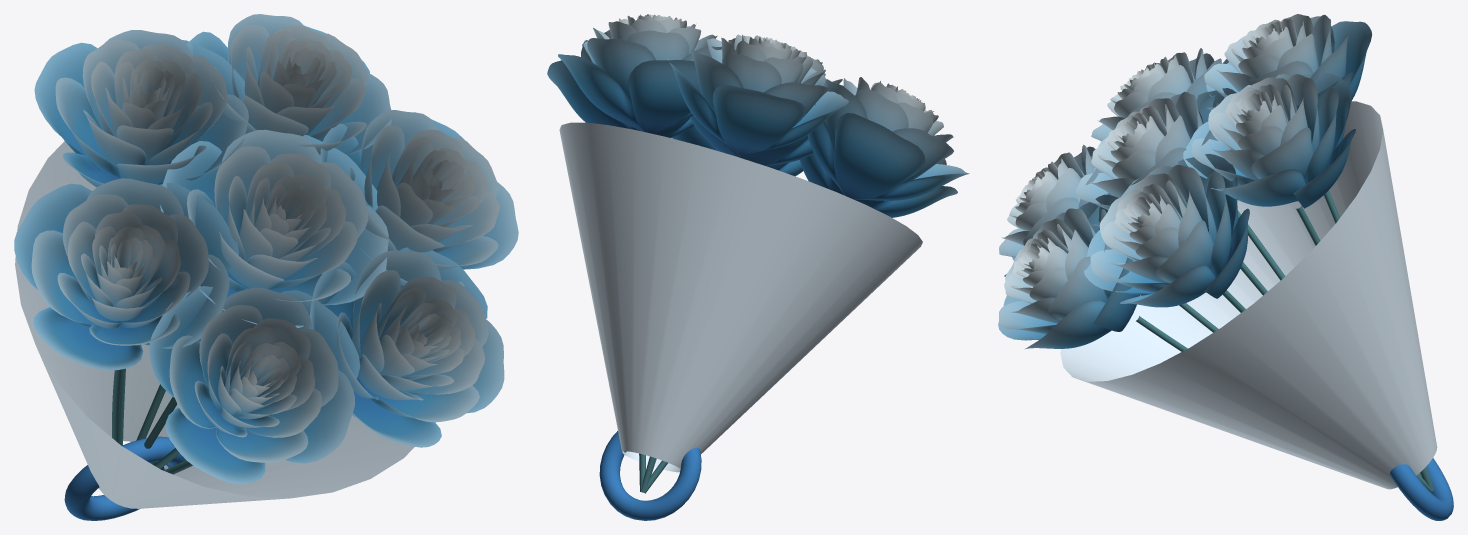
The model's file is fuongthenn-blue-bouquet.glb.
3 renders of one model, left to right at view 1: azimuth 30°, elevation 25°; view 2: azimuth 150°, elevation 25°; view 3: azimuth 270°, elevation 25°, orthographic. The views are drawn at different scales.
Visible parts, largest first — view 1: Sona bouquet · seven blue roses for FuongThenn; view 2: Sona bouquet · seven blue roses for FuongThenn; view 3: Sona bouquet · seven blue roses for FuongThenn.
Part boxes in pixels (x1,y1,x2,y2): Sona bouquet · seven blue roses for FuongThenn: [14, 14, 518, 520]; Sona bouquet · seven blue roses for FuongThenn: [547, 14, 969, 520]; Sona bouquet · seven blue roses for FuongThenn: [998, 14, 1453, 520].
Size of the model in its own units: 3.54 by 3.81 by 3.37.
